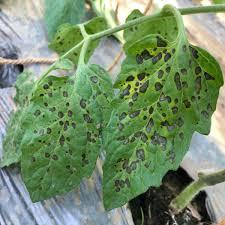leaf_spot: (15, 11, 210, 207)
